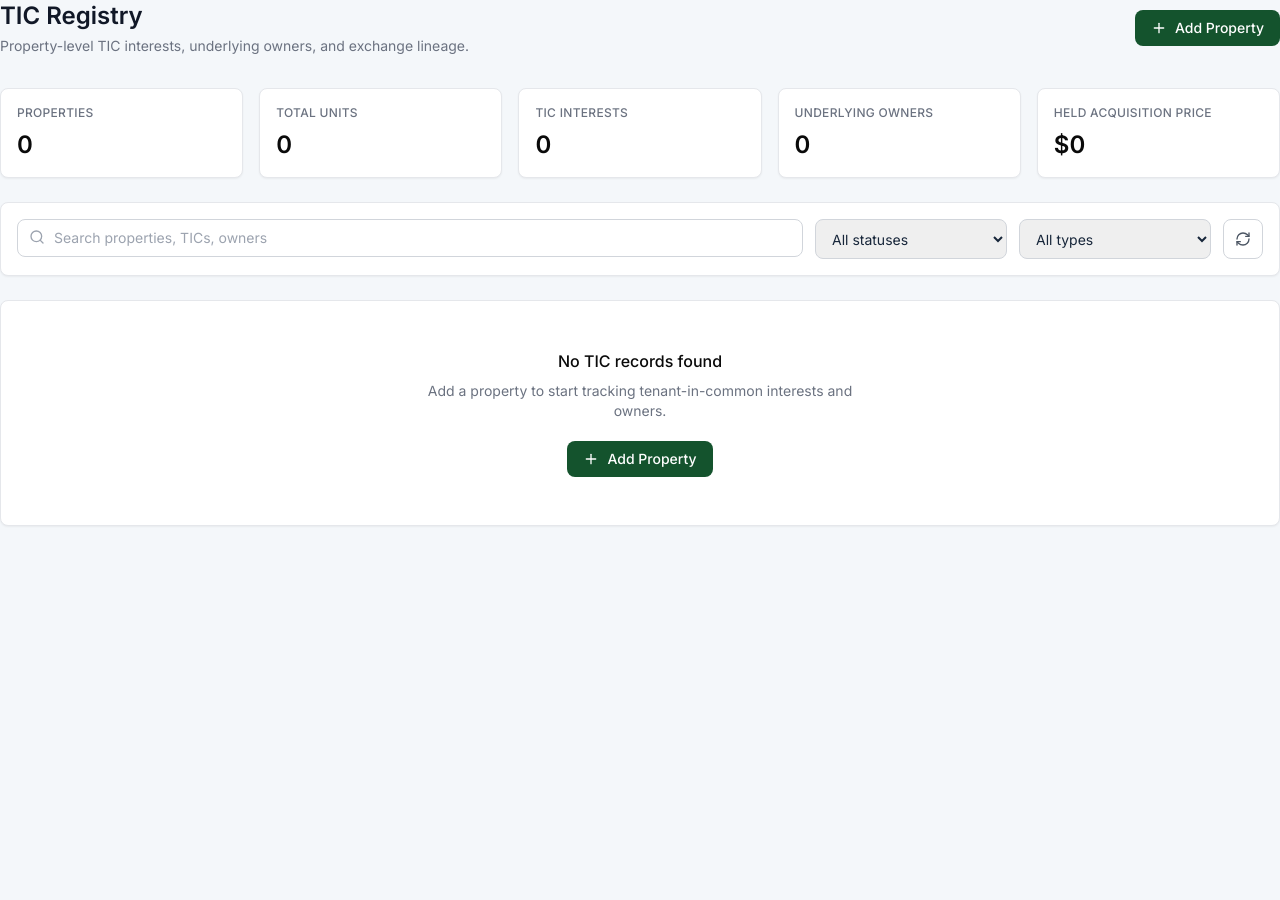
Test case: TicRegistryPageContent › opens the add property dialog with property detail fields
Check: the text "No TIC records found" is shown, box [558,351,722,371]
What coordinates should you click on to do the following:
click the button "Add Property" in the row of "TIC Registry"
I would click on:
 (1207, 28)
Its box is [1135,10,1279,46].
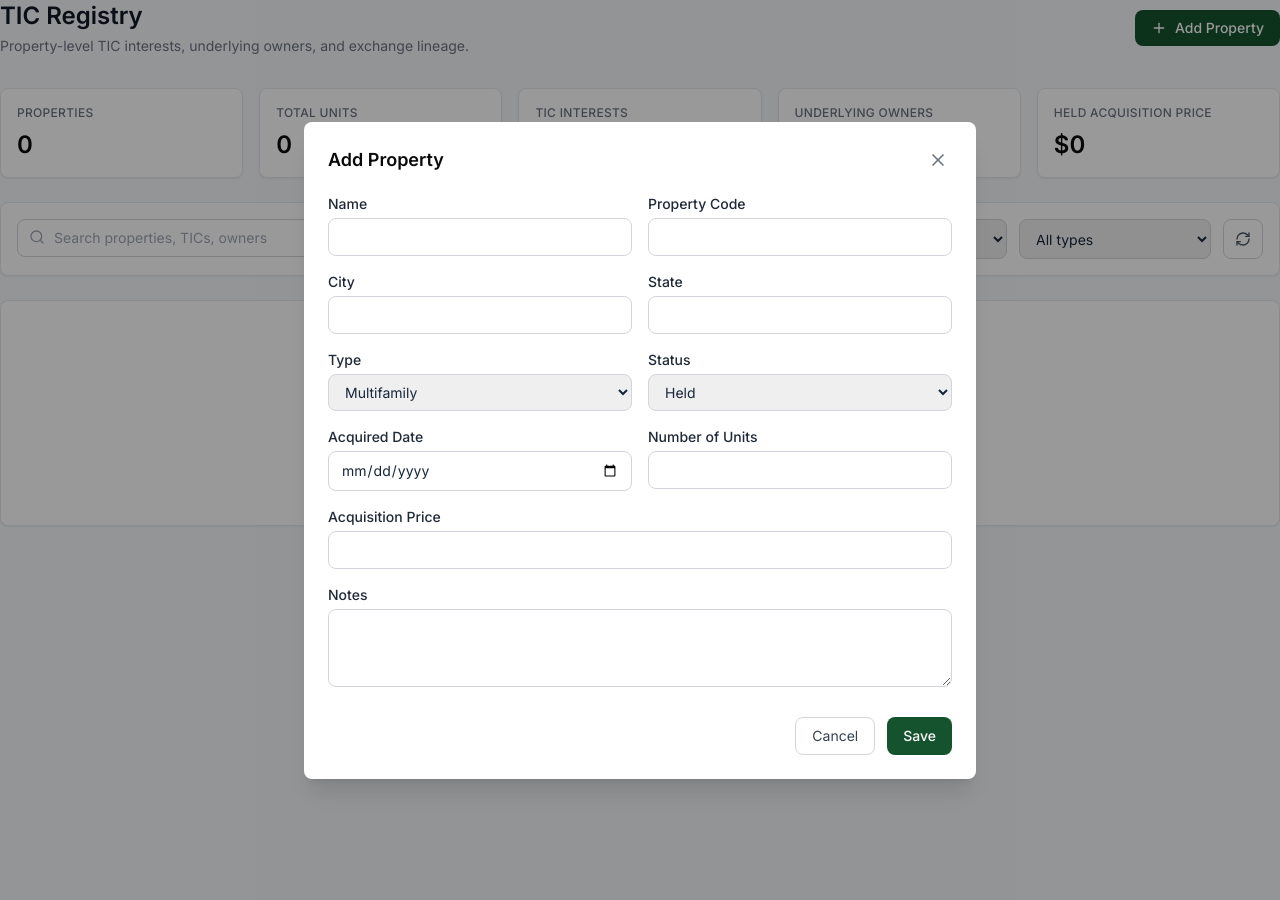
Check: the field labelled "Name" is shown, box [328,218,632,256]
Check: the field labelled "City" is shown, box [328,296,632,334]
Check: the field labelled "State" is shown, box [648,296,952,334]
